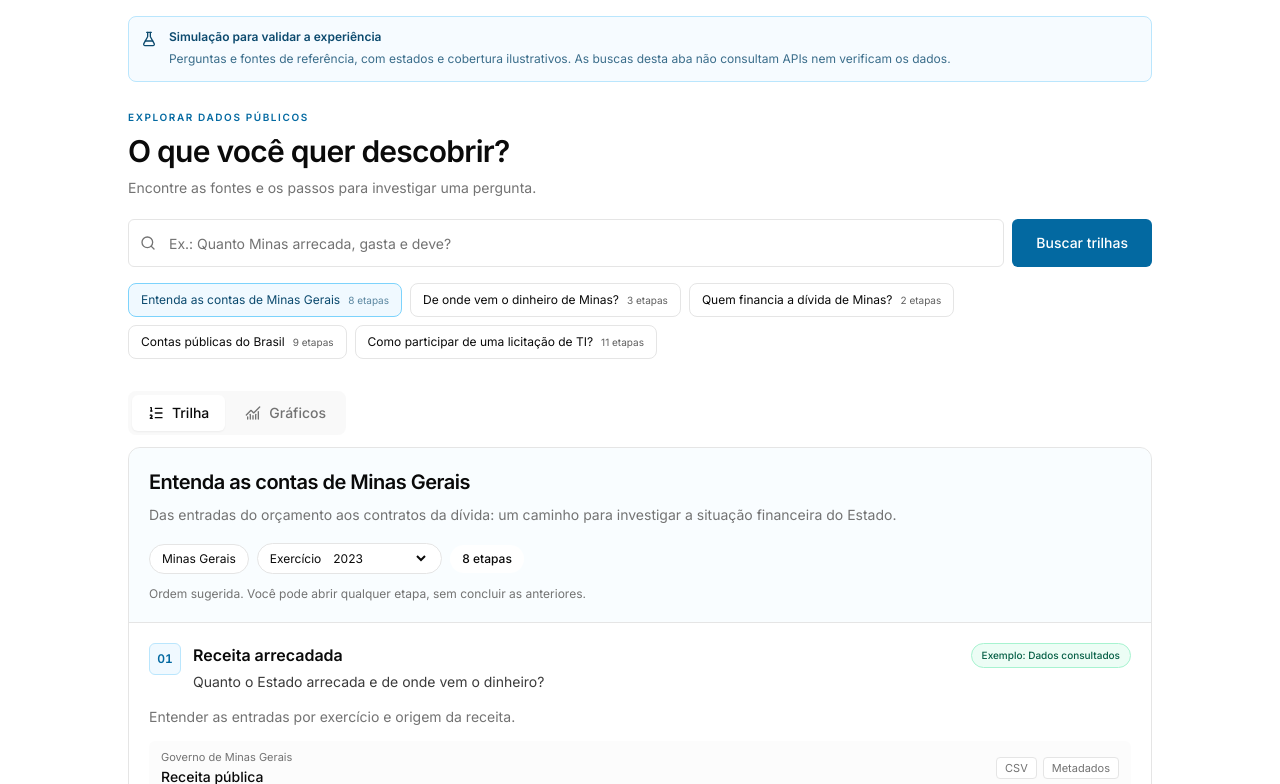
Test: InvestigationTrailDemo › não inventa gráficos para orientação documental e preserva o exercício fiscal ao retornar
Select "2025" in the dropdown named "Exercício da investigação" at (379, 558), box 329,548 -> 429,569
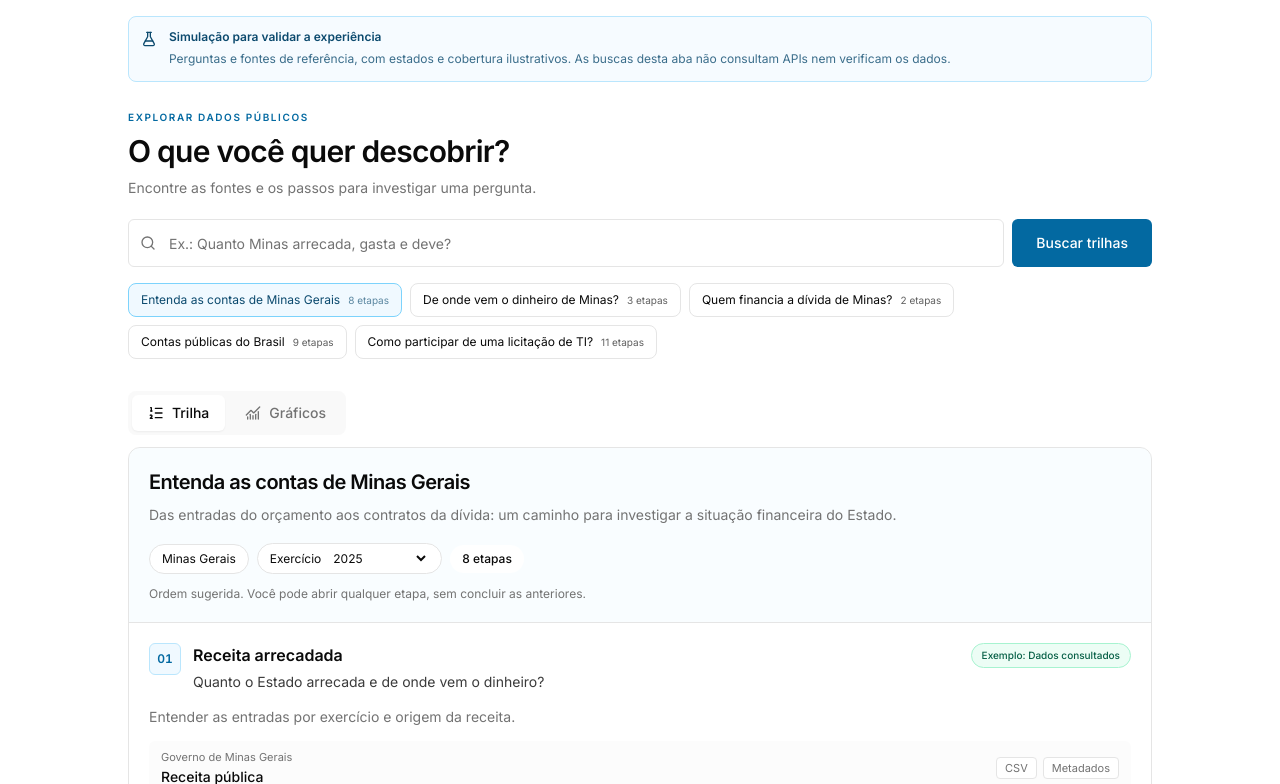
Click the button "Como participar de uma licitação de TI?11 etapas".
click(506, 342)  # box 355,325 -> 657,359
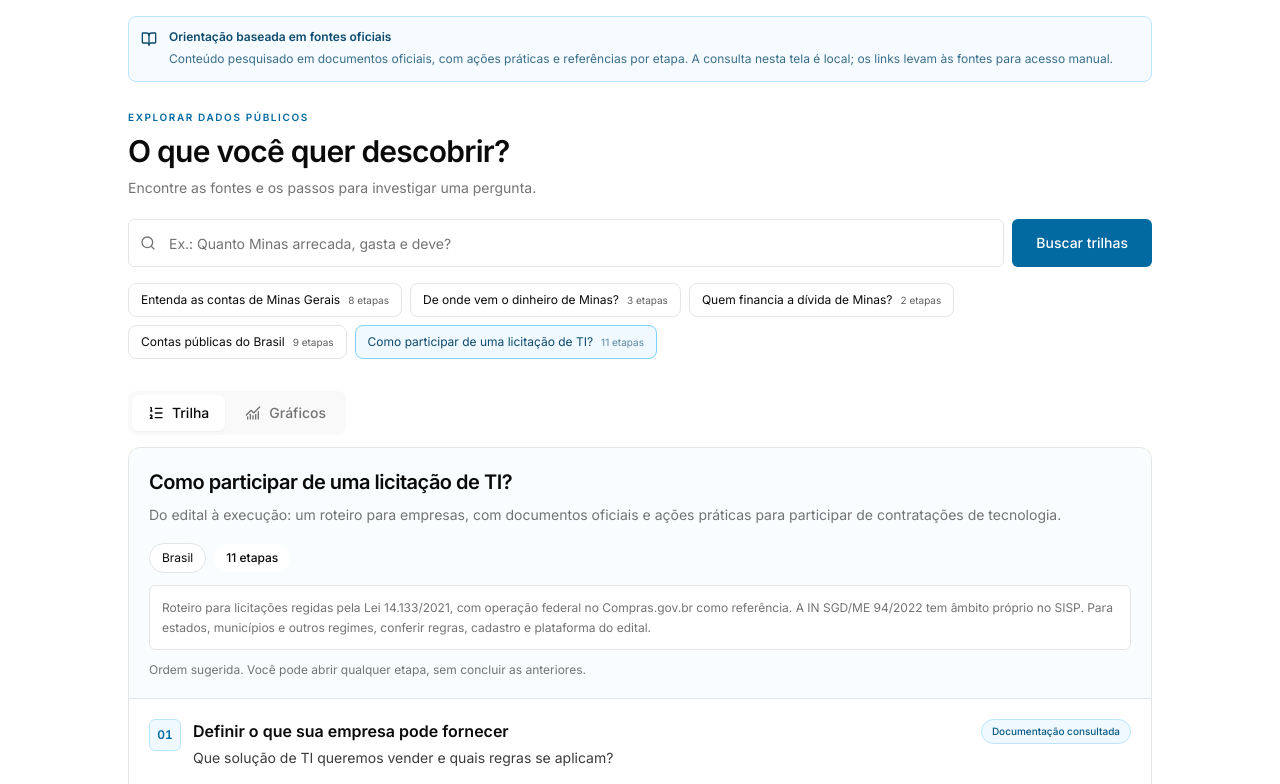
Click the tab "Gráficos".
click(286, 413)  # box 229,395 -> 342,431
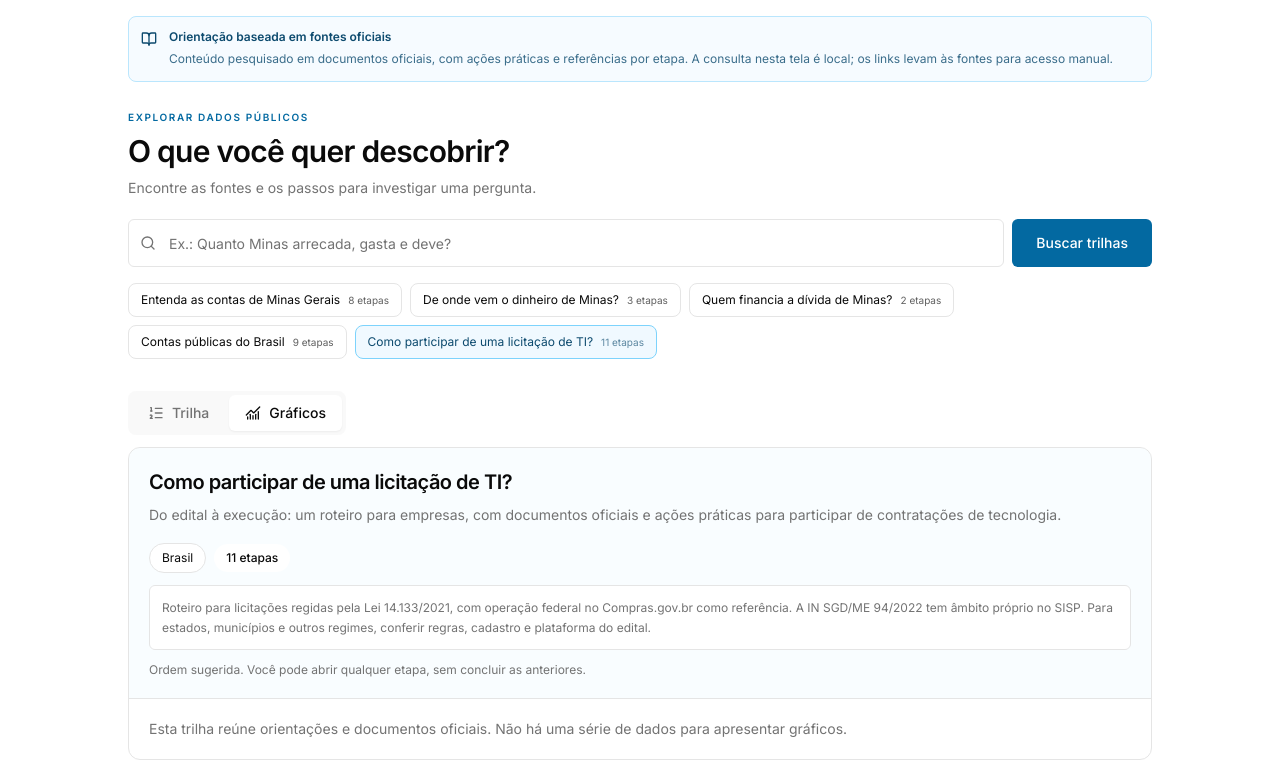
Expected: the text "Números fictícios" is not shown
Now the text "Não há uma série de dados para apresentar gráficos" is shown, box 149,720 -> 847,737
Click the button "Entenda as contas de Minas Gerais8 etapas".
click(265, 300)  # box 128,283 -> 402,317
(page scrolled)
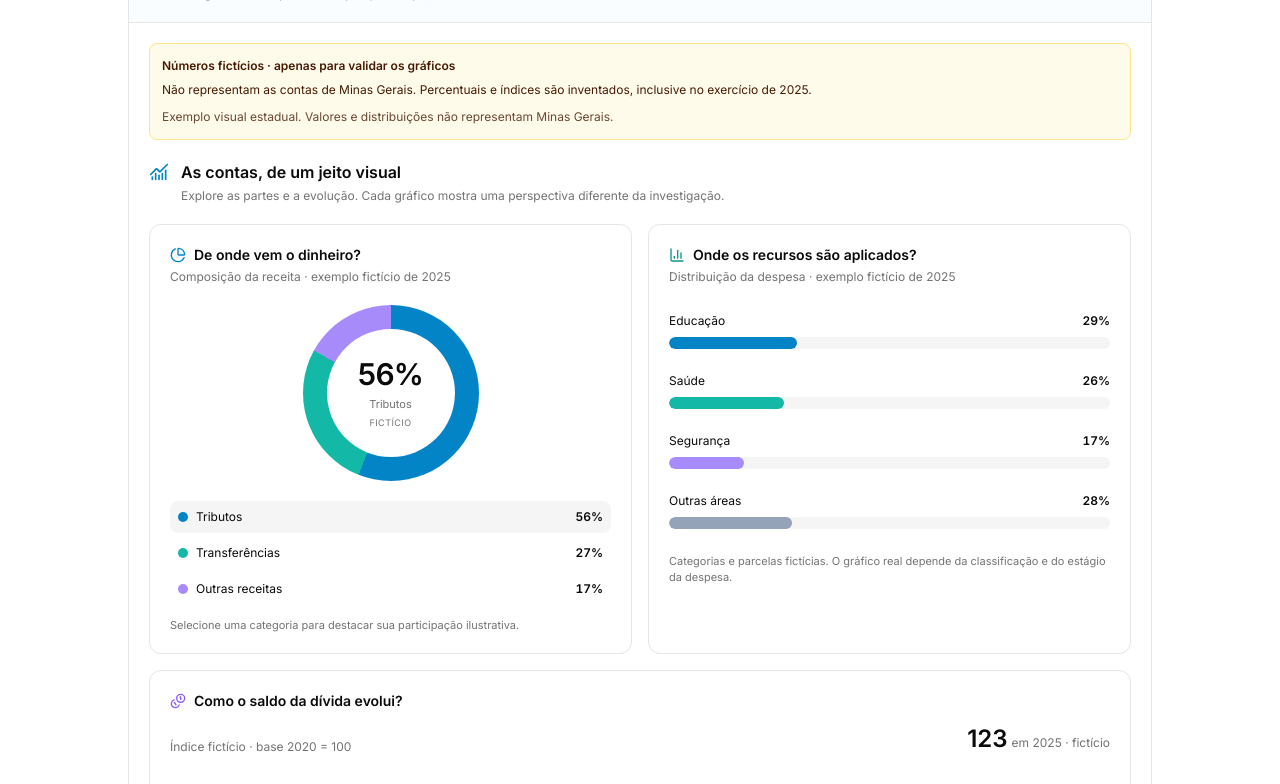
Now the picture named "Composição fictícia da receita" is shown, box 302,304 -> 478,480
